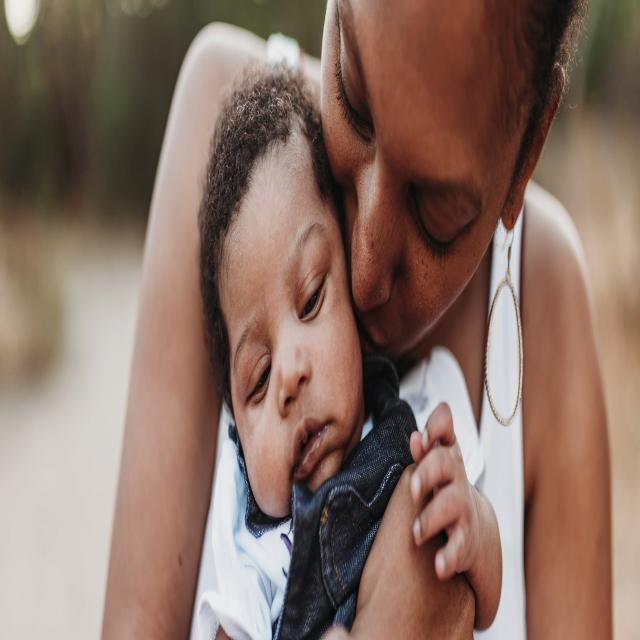adult: (100, 1, 614, 640)
child: (203, 81, 503, 640)
